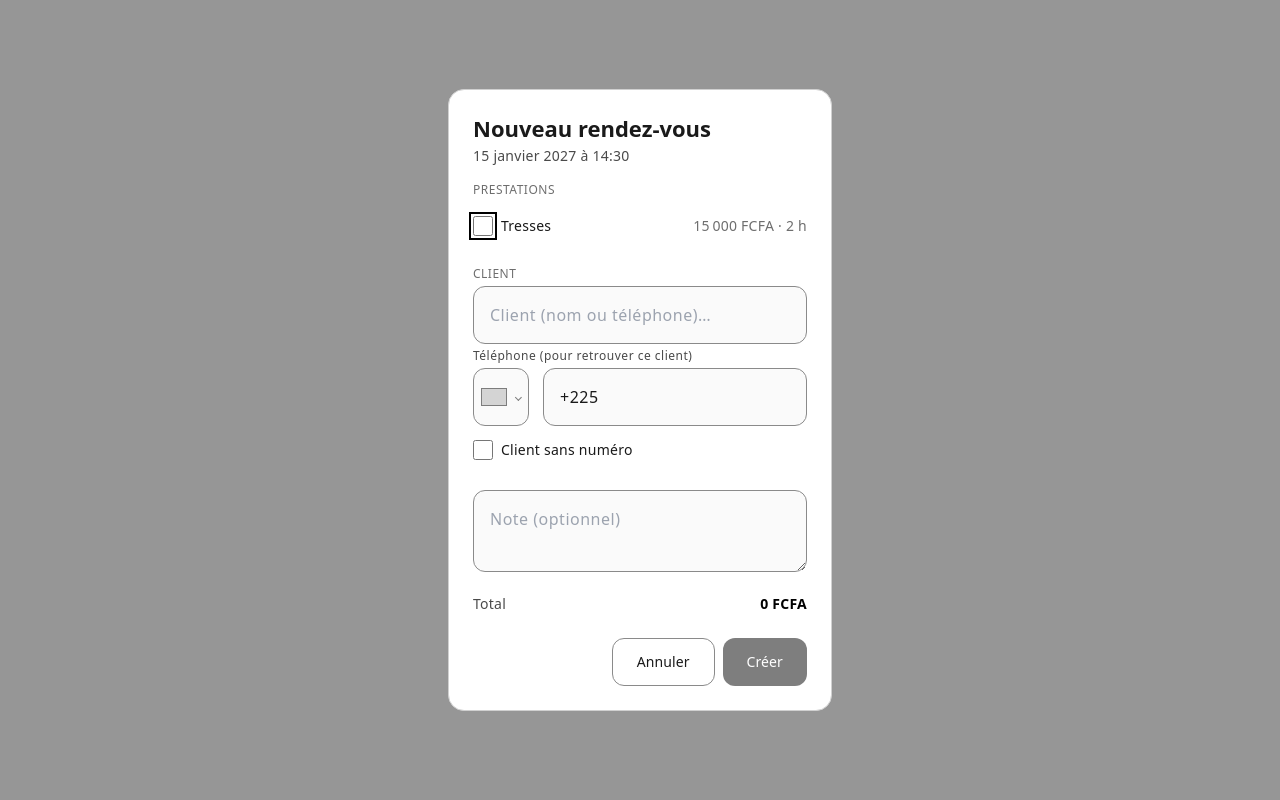
Test: ManualBookingDialog — the phone crosses as E.164 › an impossible number is refused AT THE FIELD — nothing is sent
Type "Awa" into the field named "Rechercher ou nommer le client" at (640, 315), box [473,286,807,344]
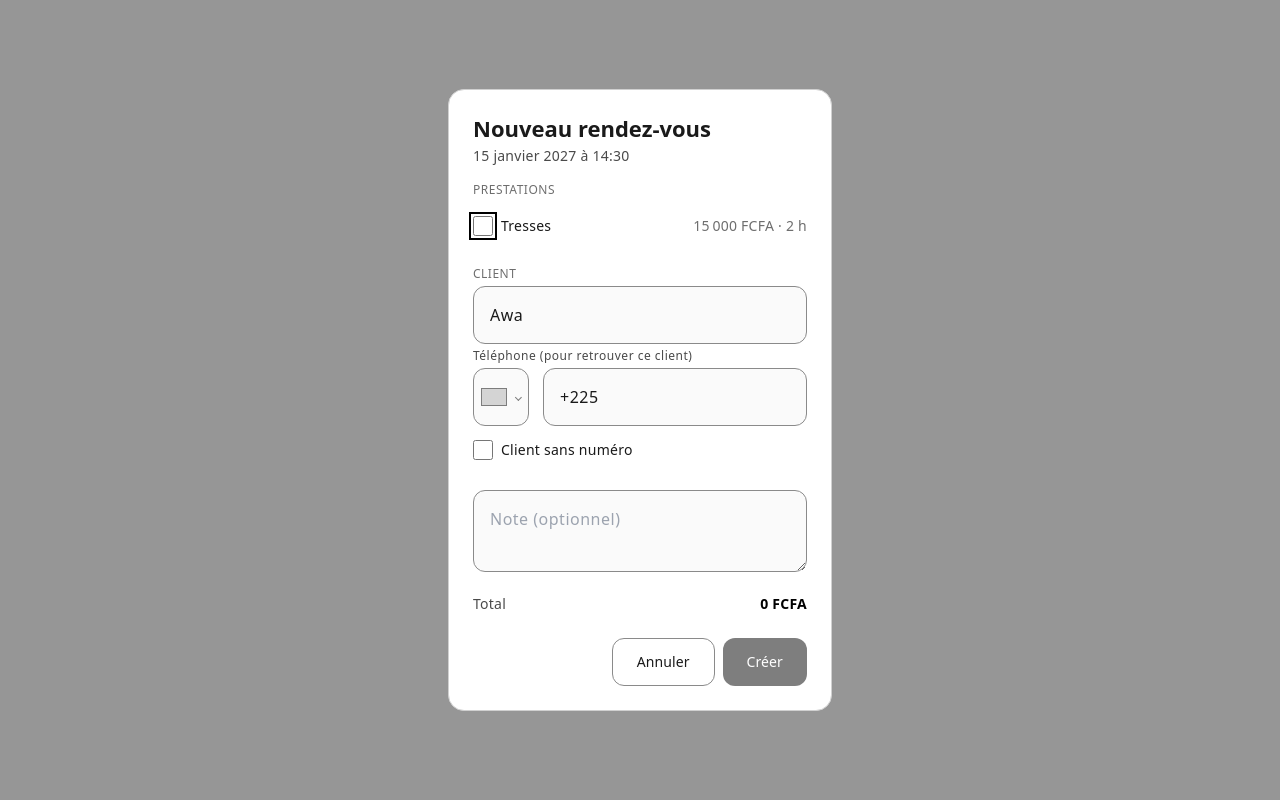
Click the checkbox labelled "Tresses 15 000 FCFA · 2 h" at (483, 226), box [473,216,493,236]
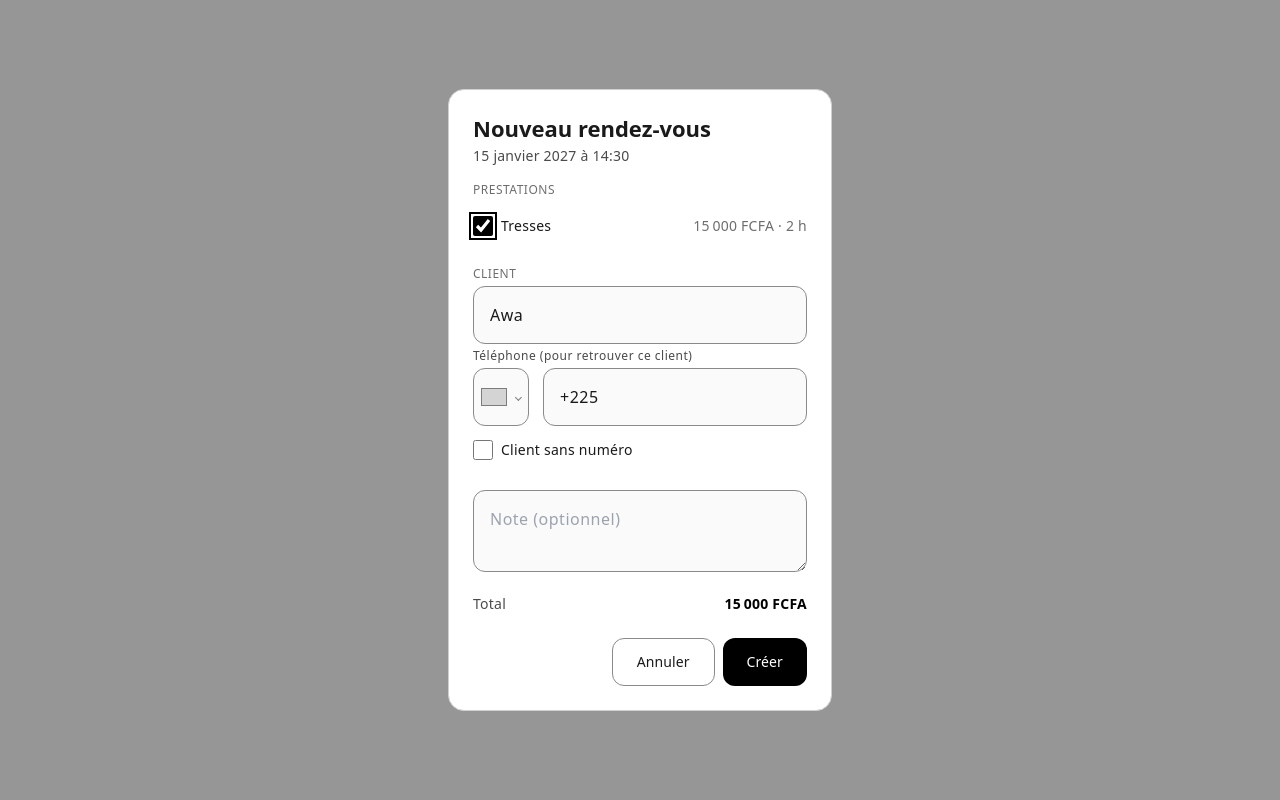
Replace the text in the field labelled "Téléphone (pour retrouver ce client)" with "12" at (675, 397), box [543,368,807,426]
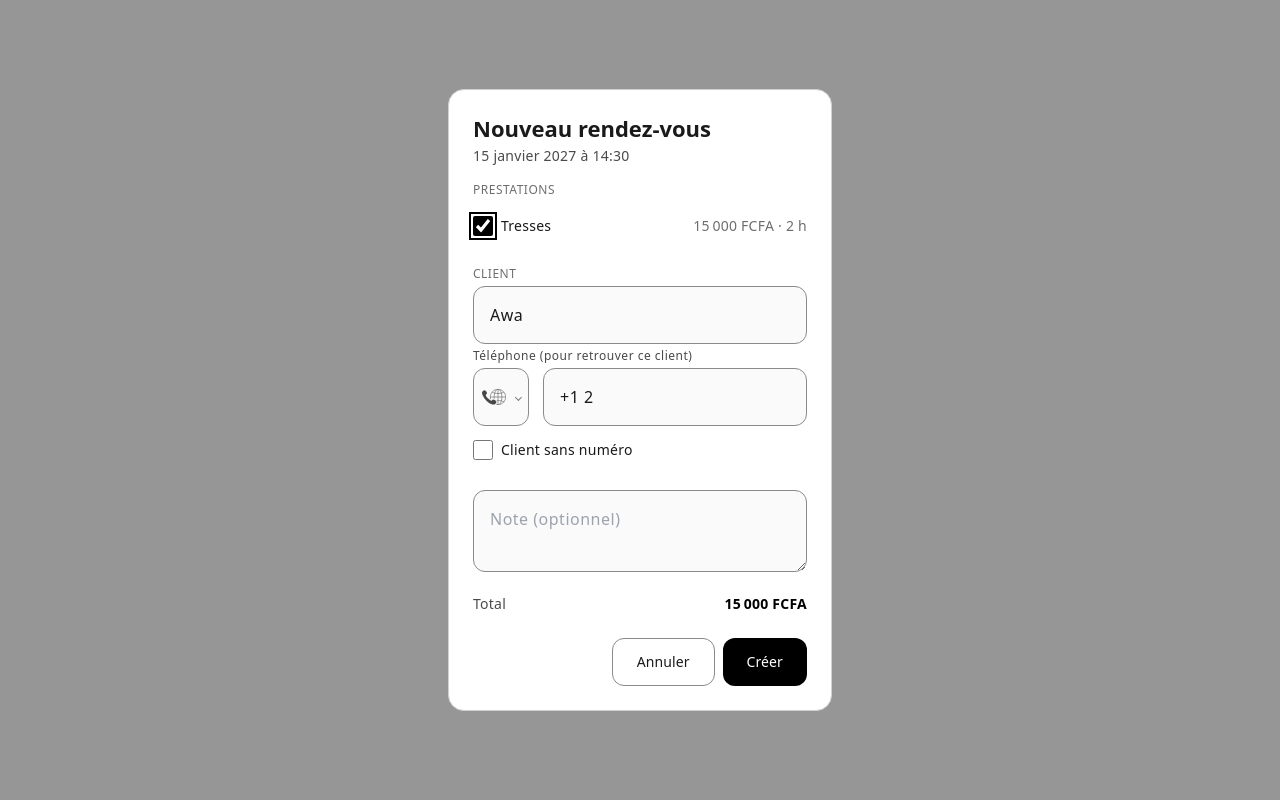
Click the button "Créer" at (765, 662), box [723,638,807,686]
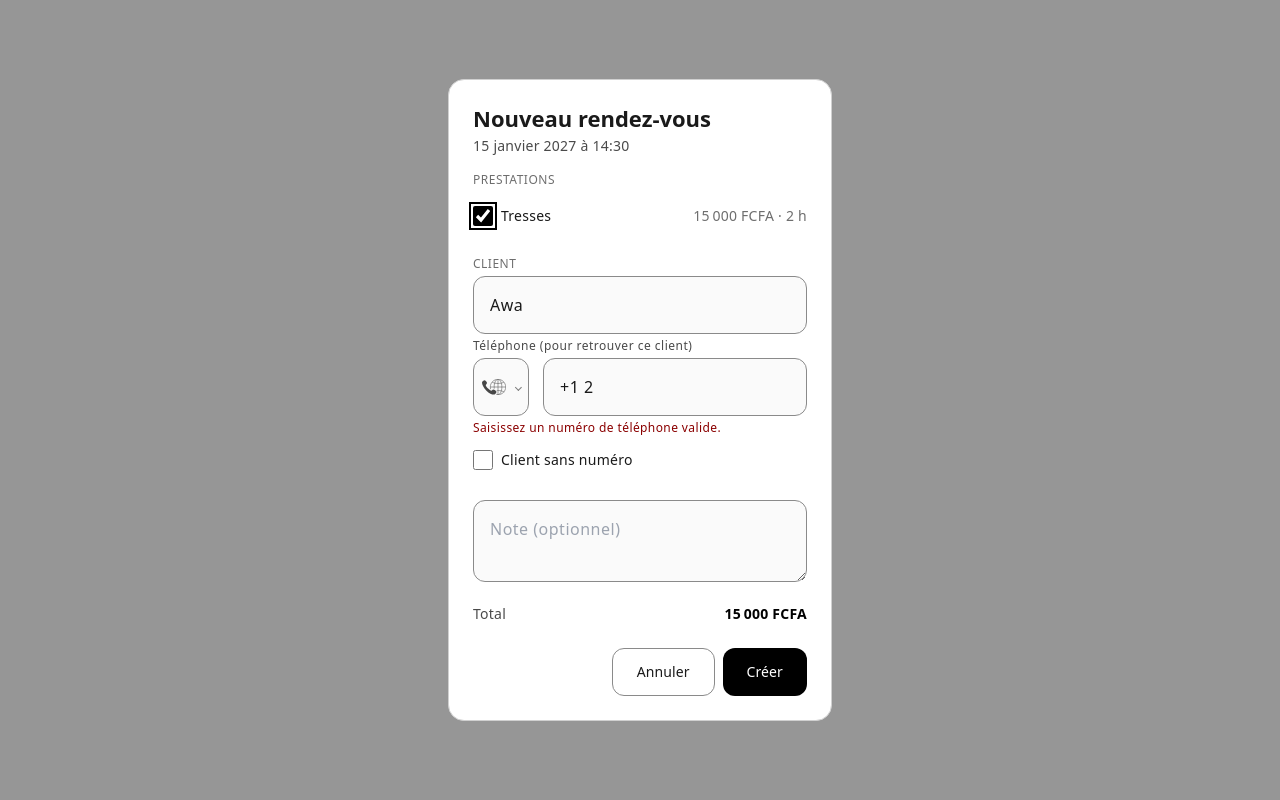
Expected: the text "Saisissez un numéro de téléphone valide." is shown, [473,419,721,436]
